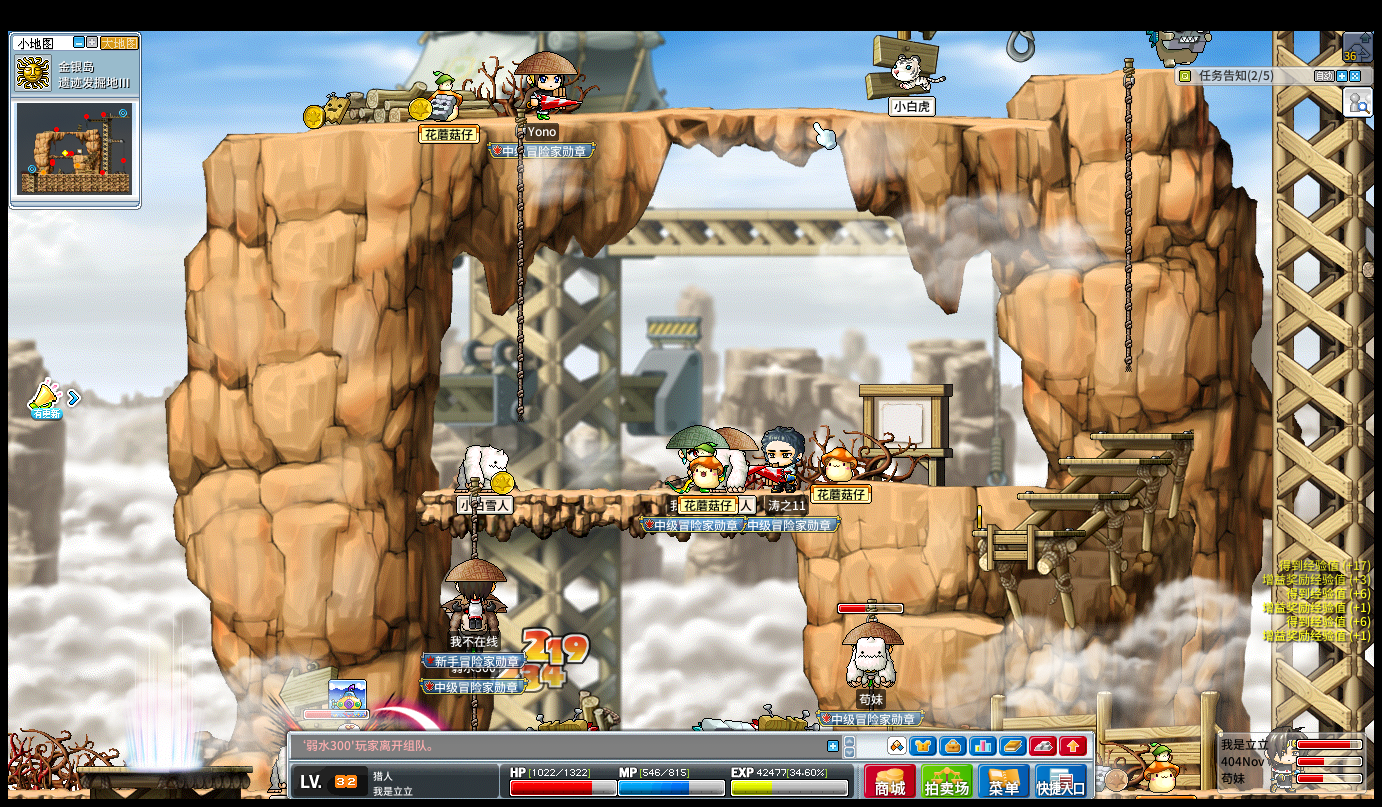floor: (216, 103, 1056, 138), (423, 488, 794, 499), (895, 612, 1003, 636), (886, 482, 1055, 493), (1027, 67, 1174, 79), (1088, 429, 1195, 441), (1017, 491, 1132, 500), (973, 528, 1086, 537), (1050, 457, 1167, 464)
rope: (1122, 58, 1134, 372), (515, 107, 526, 422), (467, 481, 479, 557)
